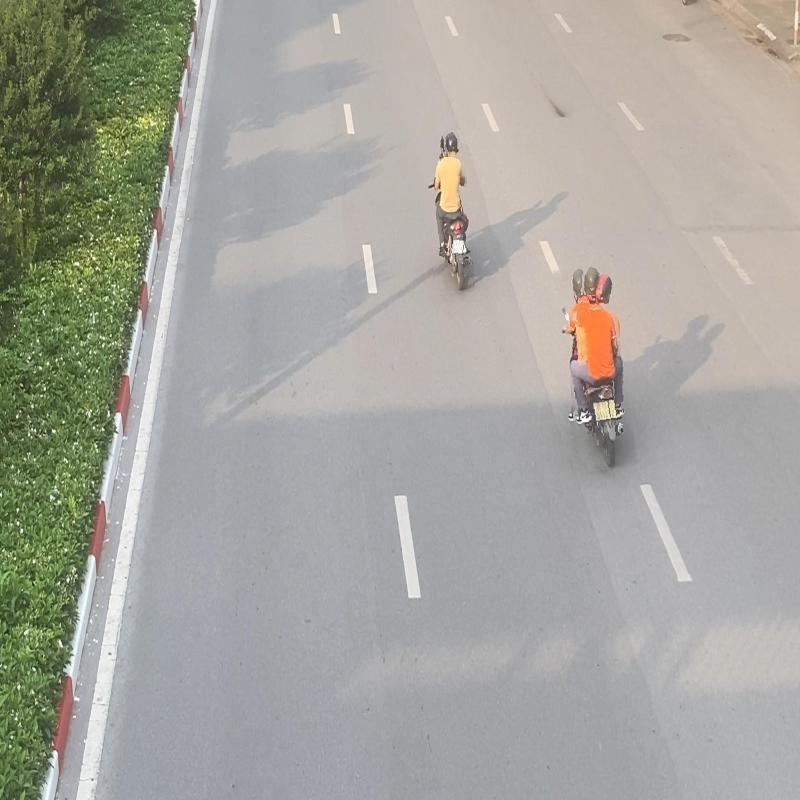helmet: (582, 266, 600, 296), (596, 274, 613, 304), (444, 130, 459, 158)
licenseplate: (594, 400, 610, 422), (451, 239, 465, 256)
motorcyclist: (560, 265, 632, 472), (426, 131, 473, 294)
